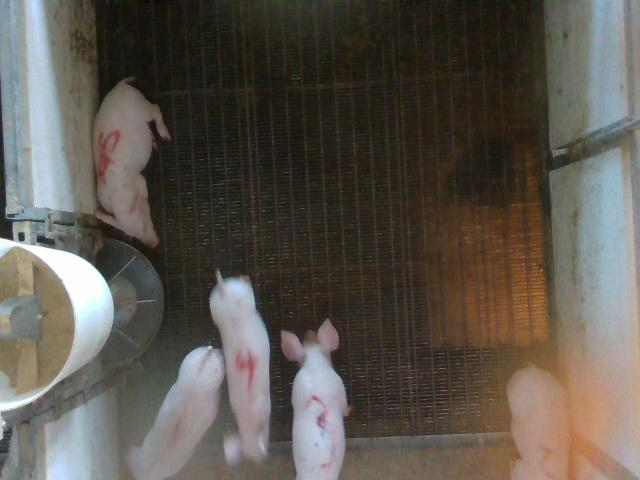pig-1: (128, 346, 225, 479)
pig-2: (506, 365, 568, 479)
pig-3: (281, 319, 349, 478)
pig-4: (209, 270, 271, 462)
pig-5: (94, 76, 171, 247)
